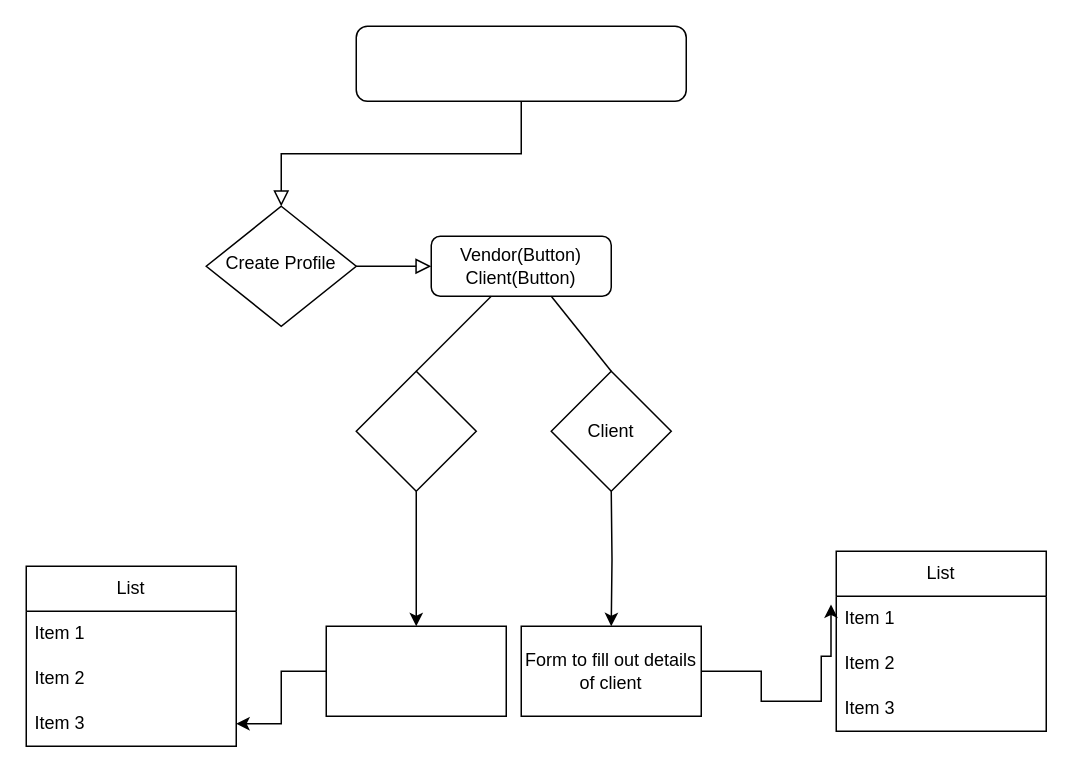
Some shapes in this 1073 by 773 pixel diagram are drawn without their labels. Each missing label, with the box of its shape:
Form to fill out details of vendor: (325, 625, 506, 716)
Login Screen "Sign Up" Gmail/Apple/Outlook login: (355, 25, 686, 101)
Vendor: (355, 370, 476, 491)
